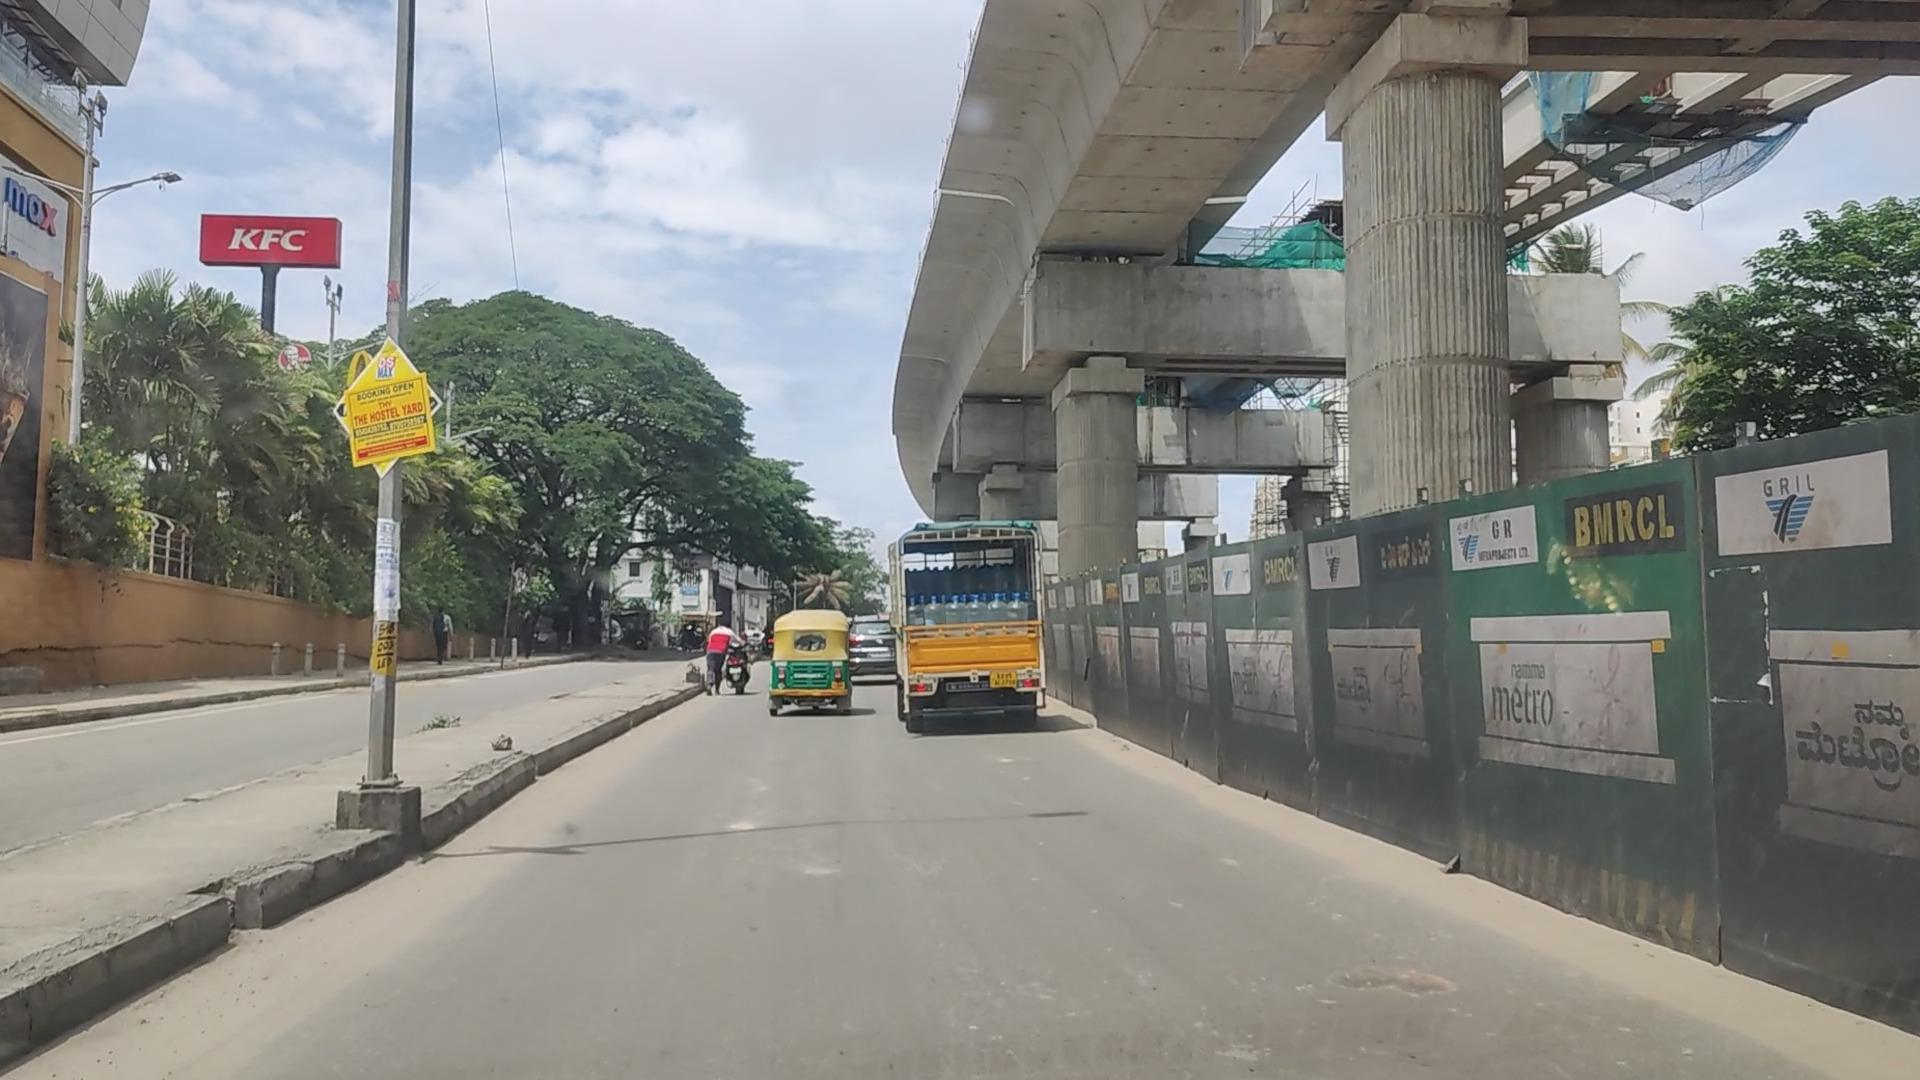HMV: (889, 509, 1044, 742)
LMV: (769, 609, 849, 719)
